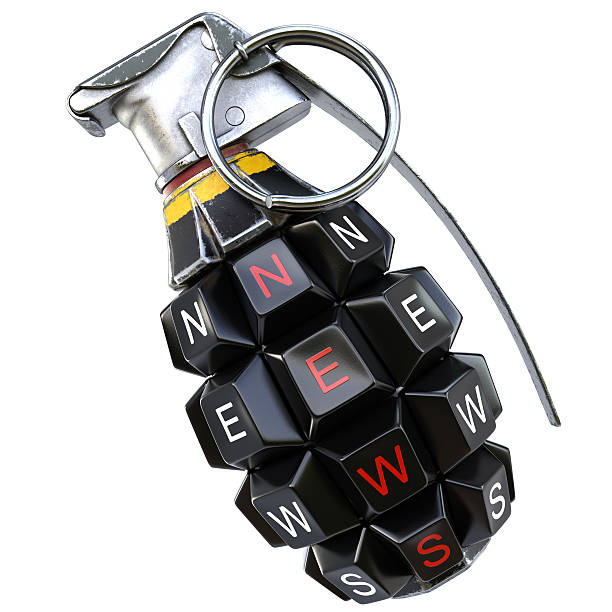e1: (71, 12, 573, 603)
